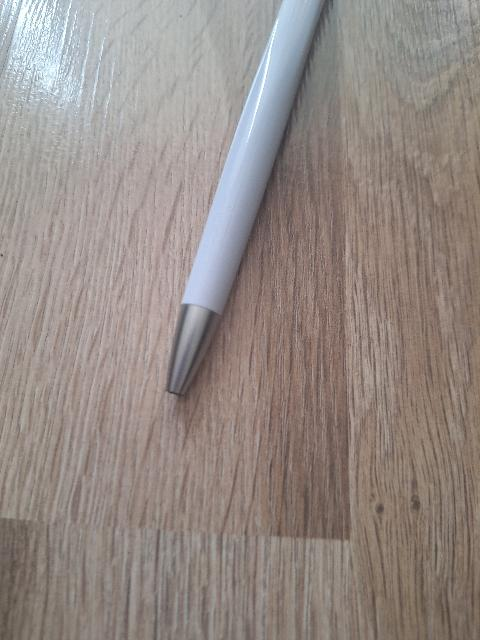writing_tool: (155, 0, 330, 402)
